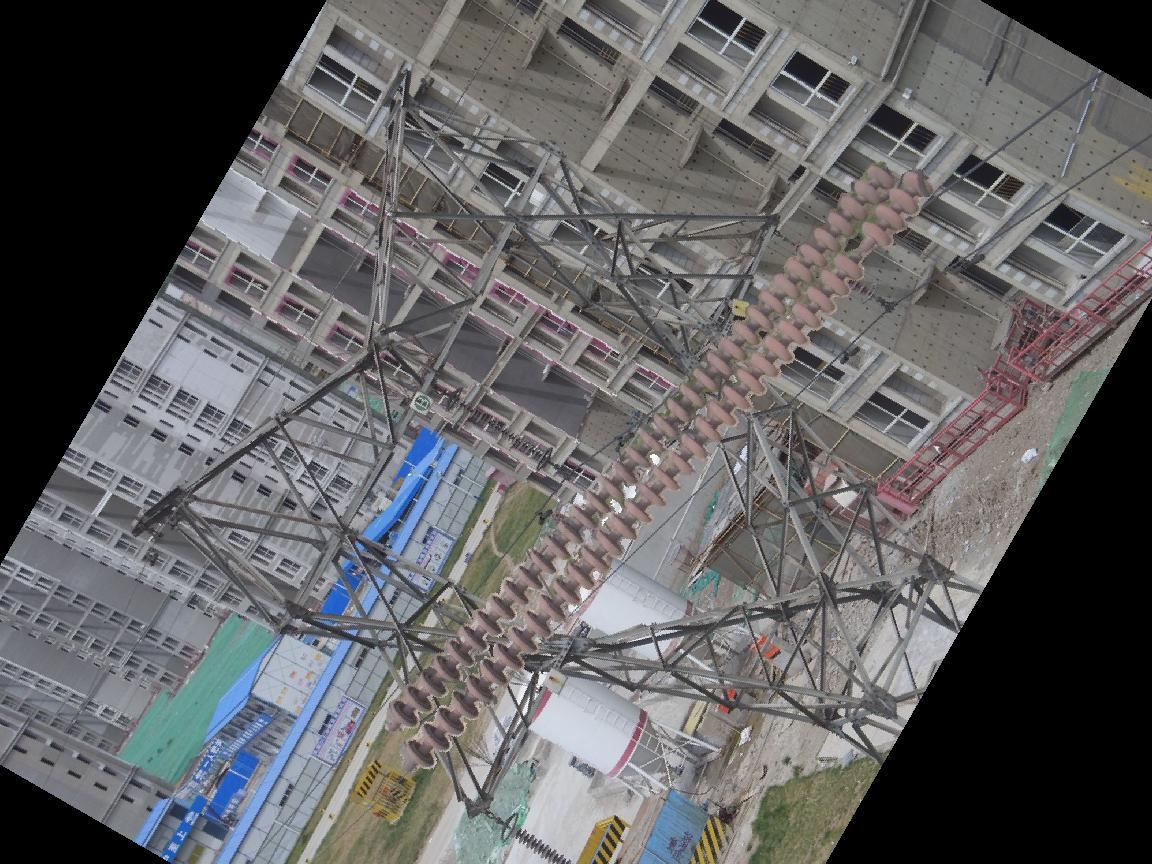insulator: (380, 154, 946, 773), (474, 402, 550, 462), (502, 823, 574, 864)
insulator_stringdrop: (831, 217, 896, 281)
